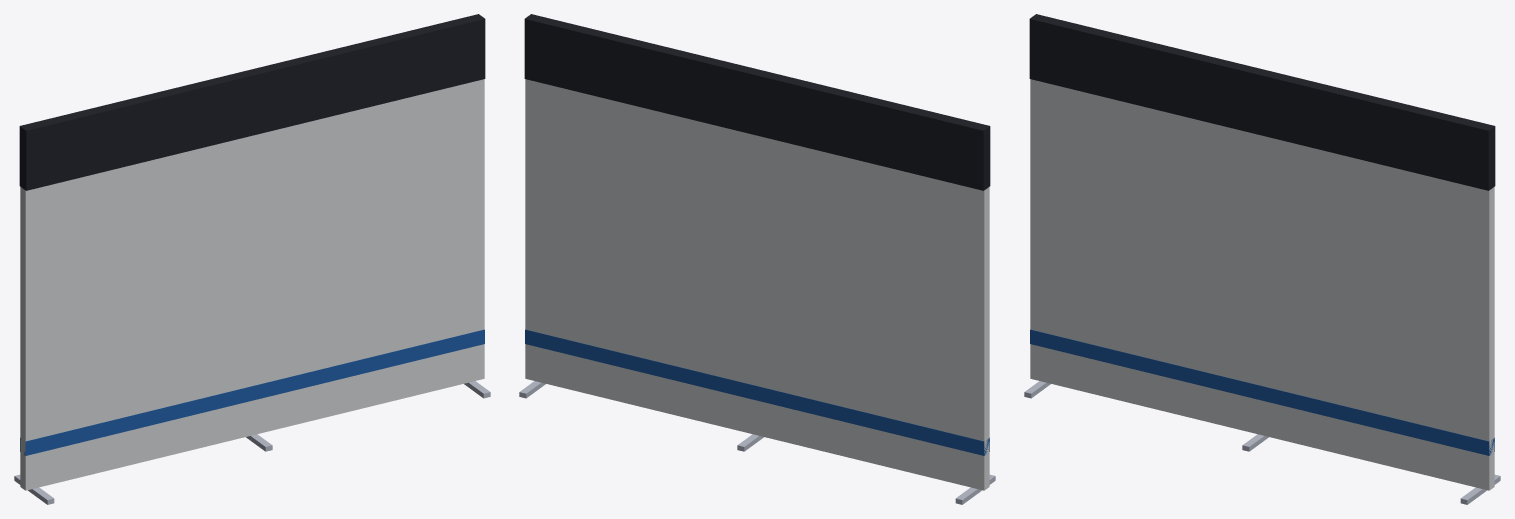
The model's file is evt-002.glb.
The picture shows the model from 3 angles, left to right: view 1: azimuth 30°, elevation 25°; view 2: azimuth 150°, elevation 25°; view 3: azimuth 330°, elevation 25°; orthographic projection.
Visible parts, largest first — view 1: white, sign_panel, airline_blue, steel; view 2: white, sign_panel, airline_blue, steel; view 3: white, sign_panel, airline_blue, steel.
Boxes of the visible parts, x1,y1,x2,y2 form: white: (20, 79, 484, 490); sign_panel: (19, 14, 485, 190); airline_blue: (20, 329, 484, 455); steel: (14, 381, 490, 504); white: (525, 79, 989, 490); sign_panel: (524, 14, 990, 190); airline_blue: (525, 329, 989, 455); steel: (519, 381, 995, 504); white: (1030, 79, 1494, 490); sign_panel: (1029, 14, 1495, 190); airline_blue: (1030, 329, 1494, 455); steel: (1024, 381, 1500, 504).
Size of the model in its own units: 4 by 3.05 by 0.5.
